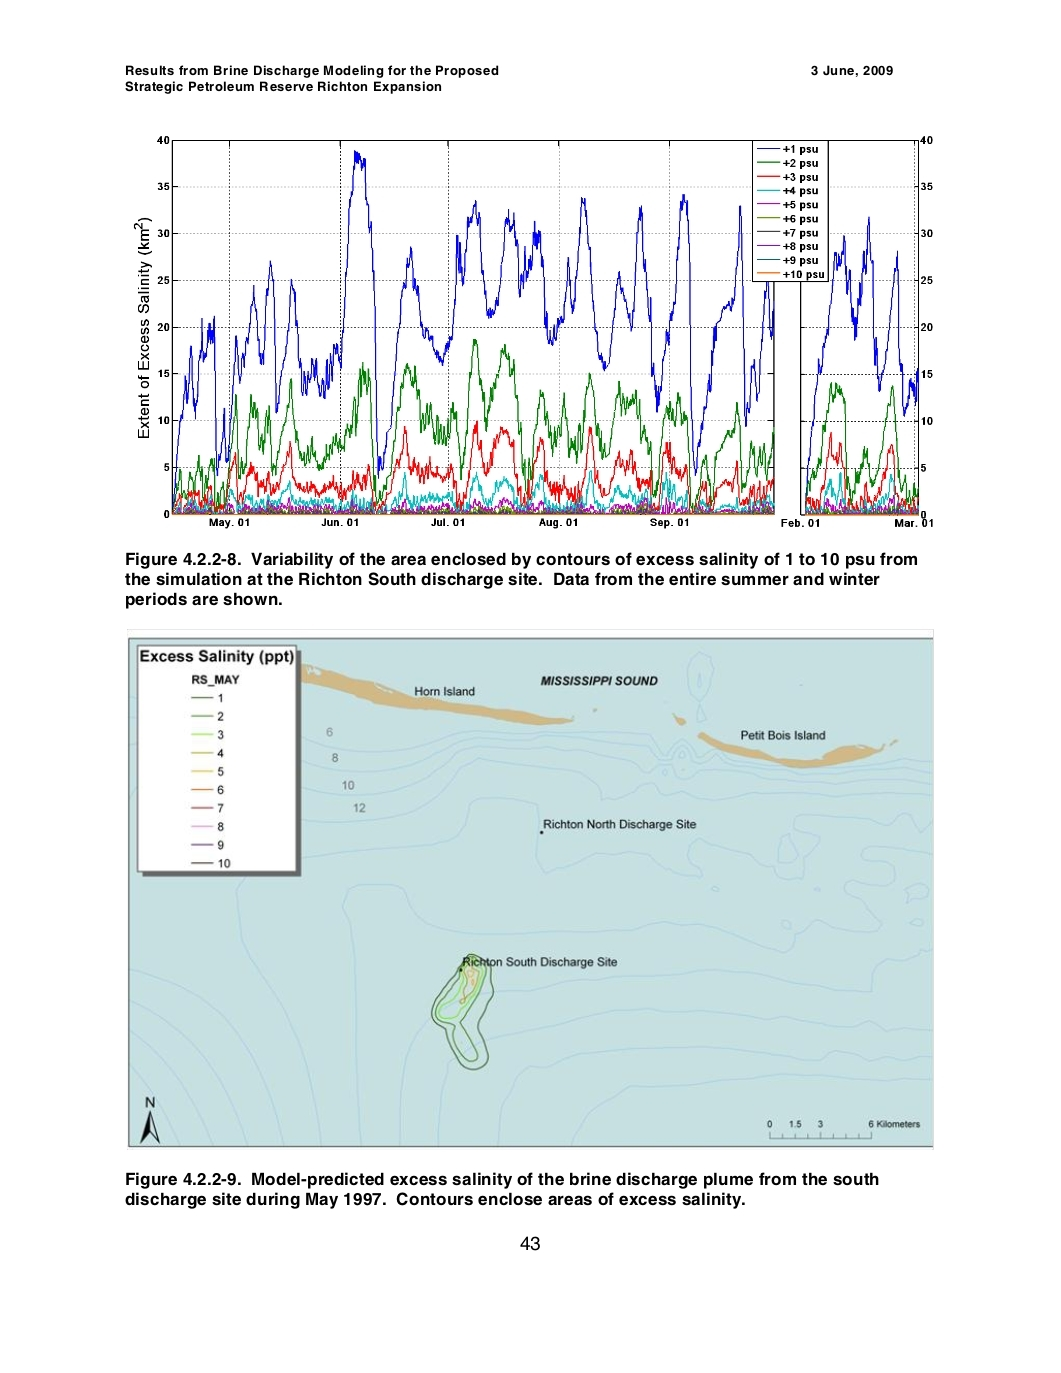figure: (127, 629, 933, 1148), (133, 135, 932, 529)
